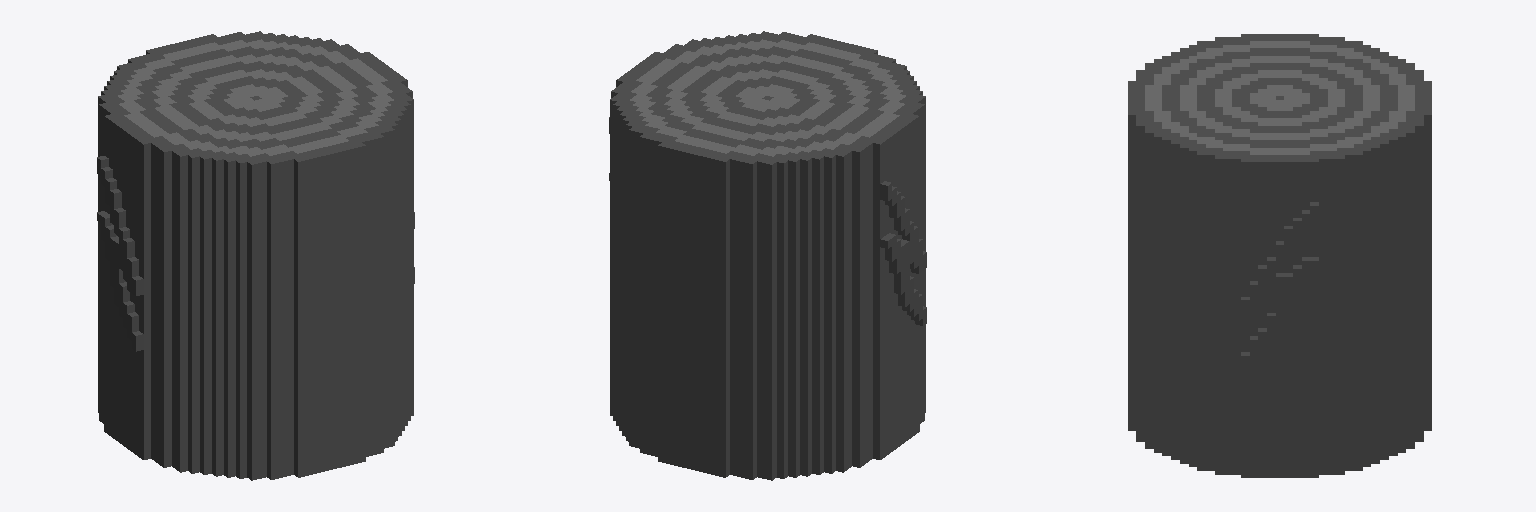
The picture shows the model from 3 angles: view 1: azimuth 30°, elevation 25°; view 2: azimuth 150°, elevation 25°; view 3: azimuth 270°, elevation 25°; orthographic projection.
Bounding box in the file's own units: 37 × 40 × 35.
1 materials, 1 textured.